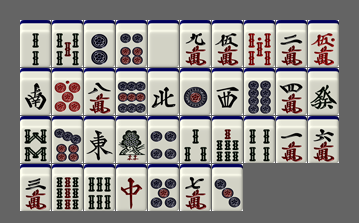0m: (308, 20, 339, 67)
0p: (52, 68, 83, 115)
0s: (244, 20, 275, 67)
1m: (276, 116, 307, 163)
1p: (180, 68, 211, 115)
1s: (116, 116, 147, 163)
1z: (84, 116, 115, 163)
2m: (276, 20, 307, 67)
2p: (84, 20, 115, 67)
2s: (20, 20, 51, 67)
2z: (20, 68, 51, 115)
3m: (20, 164, 51, 211)
3p: (212, 164, 243, 211)
3s: (180, 116, 211, 163)
3z: (212, 68, 243, 115)
4m: (276, 68, 307, 115)
4p: (148, 116, 179, 163)
4s: (244, 116, 275, 163)
4z: (148, 68, 179, 115)
5m: (212, 20, 243, 67)
5p: (148, 164, 179, 211)
5s: (52, 20, 83, 67)
5z: (148, 20, 179, 67)
6m: (308, 116, 339, 163)
6p: (116, 20, 147, 67)
6s: (84, 164, 115, 211)
6z: (308, 68, 339, 115)
7m: (180, 164, 211, 211)
7p: (52, 116, 83, 163)
7s: (212, 116, 243, 163)
7z: (116, 164, 147, 211)
8m: (84, 68, 115, 115)
8p: (244, 68, 275, 115)
8s: (20, 116, 51, 163)
9m: (180, 20, 211, 67)
9p: (116, 68, 147, 115)
9s: (52, 164, 83, 211)
